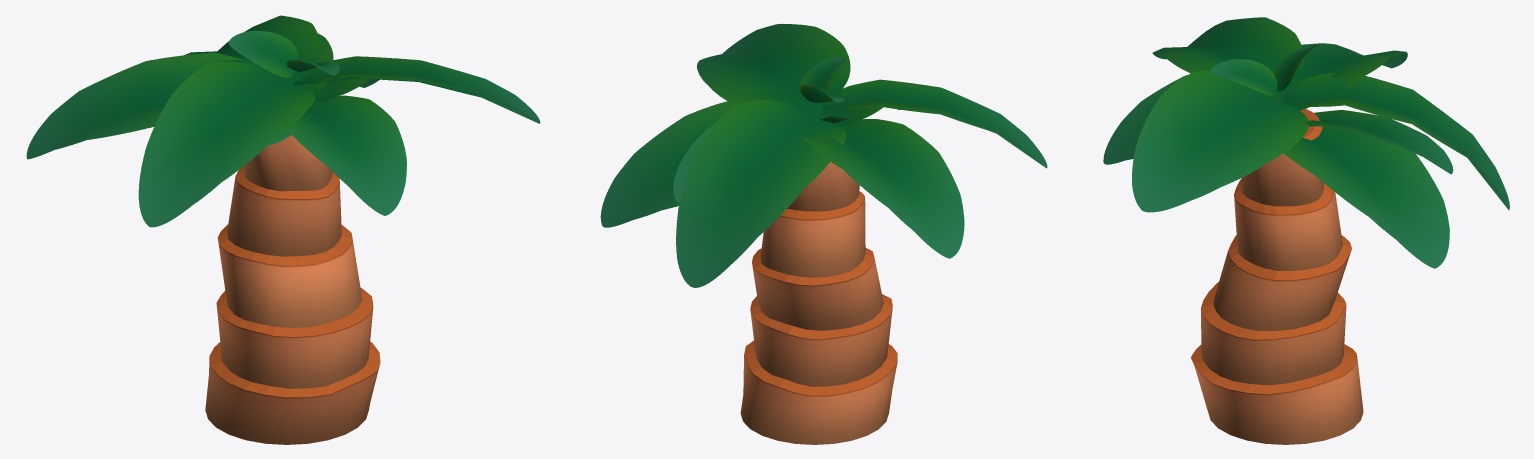
Rendered from Tree_1b.fbx.
The picture shows the model from 3 angles, left to right: view 1: azimuth 30°, elevation 25°; view 2: azimuth 150°, elevation 25°; view 3: azimuth 270°, elevation 25°; orthographic projection. The views are drawn at different scales.
Parts seen in each view (by area): view 1: Tree_1b; view 2: Tree_1b; view 3: Tree_1b.
Boxes of the visible parts, left/top/right/bottom form: Tree_1b: left=26, top=15, right=540, bottom=444; Tree_1b: left=600, top=23, right=1047, bottom=444; Tree_1b: left=1103, top=17, right=1509, bottom=444.
Size of the model in its own units: 64.89 by 51.96 by 57.01.
